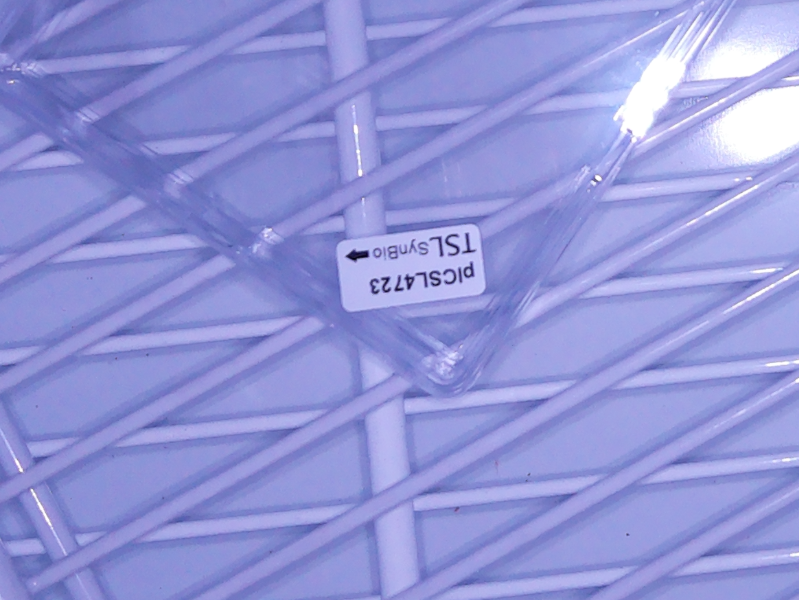plate: (1, 1, 742, 405)
